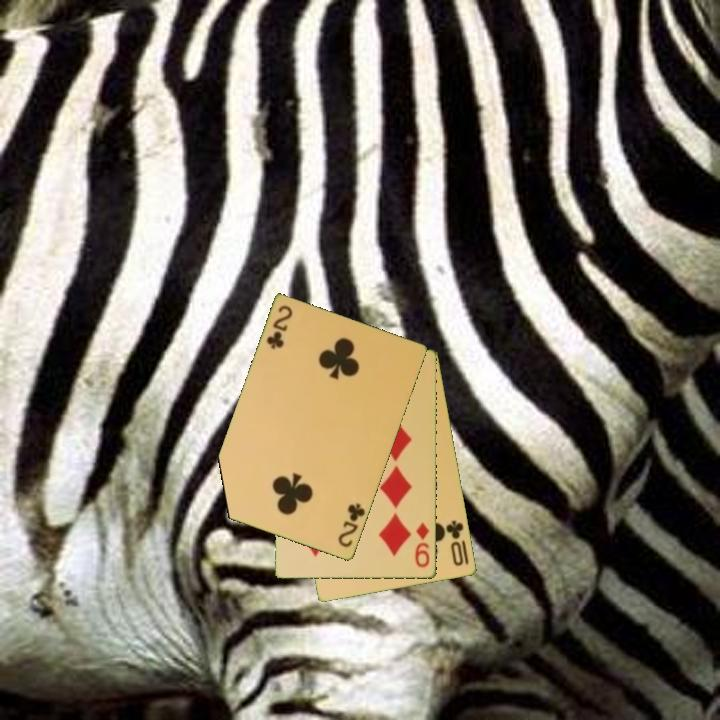10c: (442, 517, 467, 569)
2c: (335, 500, 368, 551), (263, 302, 296, 352)
9d: (412, 520, 432, 570)
